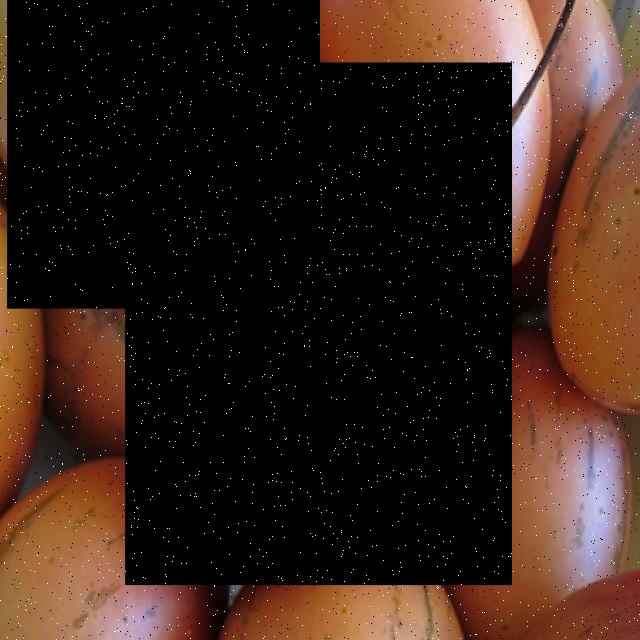Tree_Tomato: (126, 62, 513, 586), (9, 0, 321, 309)
